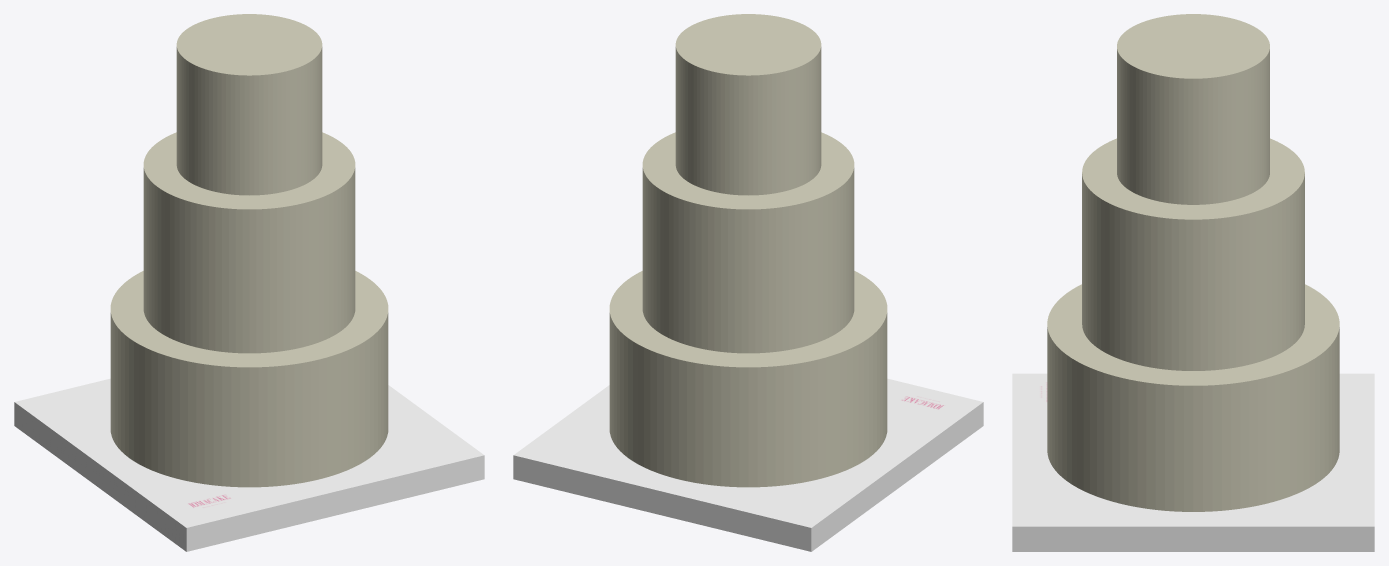
The model's file is cake_tier3_8-6-4_layers3_v33.glb.
The picture shows the model from 3 angles, left to right: view 1: azimuth 30°, elevation 25°; view 2: azimuth 150°, elevation 25°; view 3: azimuth 270°, elevation 25°; orthographic projection. The views are drawn at different scales.
Visible parts, largest first — view 1: Tier0, Tier1, Board, Tier2, Logo; view 2: Tier0, Tier1, Board, Tier2, Logo; view 3: Tier0, Tier1, Board, Tier2.
Part boxes in pixels (x1,y1,x2,y2): Tier0: (110,271,388,487); Tier1: (143,132,355,353); Board: (14,378,484,551); Tier2: (176,14,322,195); Logo: (180,491,241,513); Tier0: (609,271,887,487); Tier1: (642,132,854,353); Board: (513,378,983,551); Tier2: (675,14,821,195); Logo: (894,391,954,412); Tier0: (1047,284,1339,511); Tier1: (1082,138,1304,370); Board: (1012,373,1374,551); Tier2: (1117,14,1269,204).
Size of the model in its own units: 0.26 by 0.34 by 0.26.
